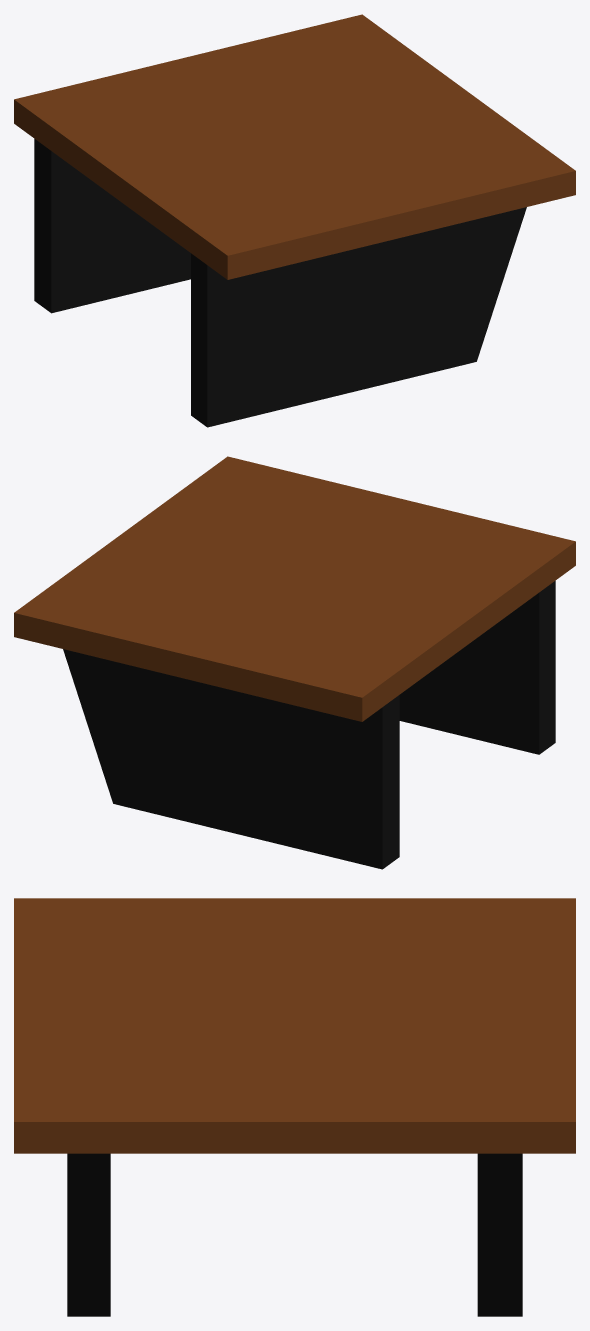
File: Spawn_point.fbx
3 renders of one model, top to bottom at view 1: azimuth 30°, elevation 25°; view 2: azimuth 150°, elevation 25°; view 3: azimuth 270°, elevation 25°, orthographic. The views are drawn at different scales.
Parts seen in each view (by area): view 1: Cube.001; view 2: Cube.001; view 3: Cube.001.
Part boxes in pixels (box(x1,y1,x2,y2)): Cube.001: box(14, 14, 575, 427); Cube.001: box(14, 456, 575, 869); Cube.001: box(14, 898, 575, 1316).
Bounding box in the file's own units: 99.1 × 50.73 × 105.
